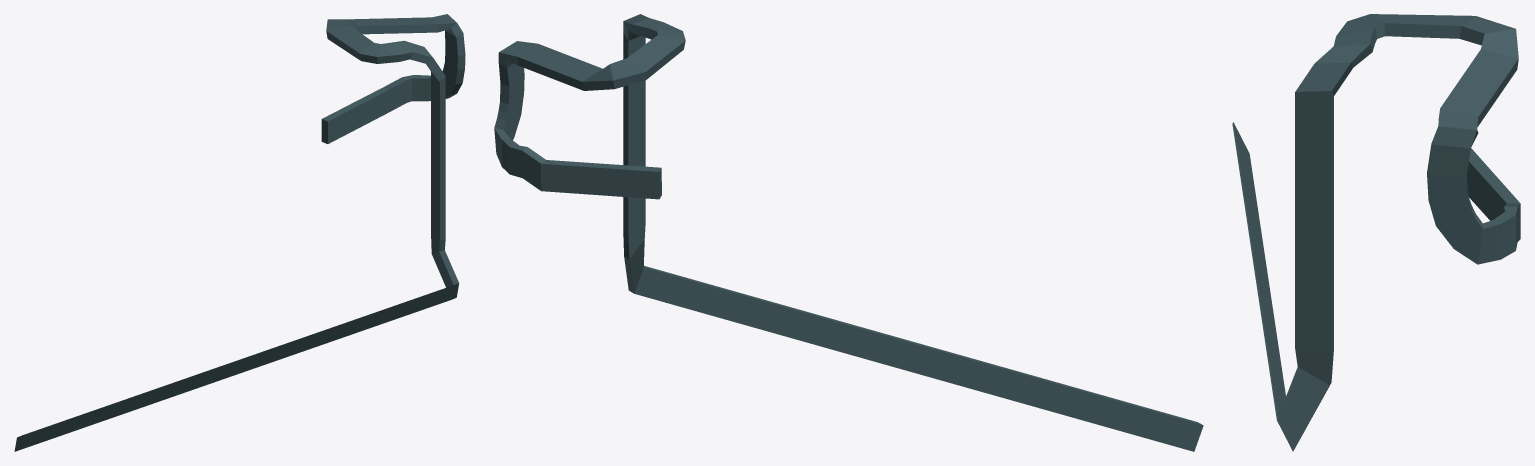
Rendered from magnet path.fbx.
3 views of the same model, side by side, from view 1: azimuth 30°, elevation 25°; view 2: azimuth 150°, elevation 25°; view 3: azimuth 270°, elevation 25° (orthographic). The views are drawn at different scales.
Visible parts, largest first — view 1: magnet_path; view 2: magnet_path; view 3: magnet_path.
Part boxes in pixels (left/top/right/bottom): magnet_path: left=14, top=14, right=465, bottom=451; magnet_path: left=494, top=14, right=1203, bottom=451; magnet_path: left=1232, top=14, right=1520, bottom=451.
Bounding box in the file's own units: 2552 × 1336 × 794.
